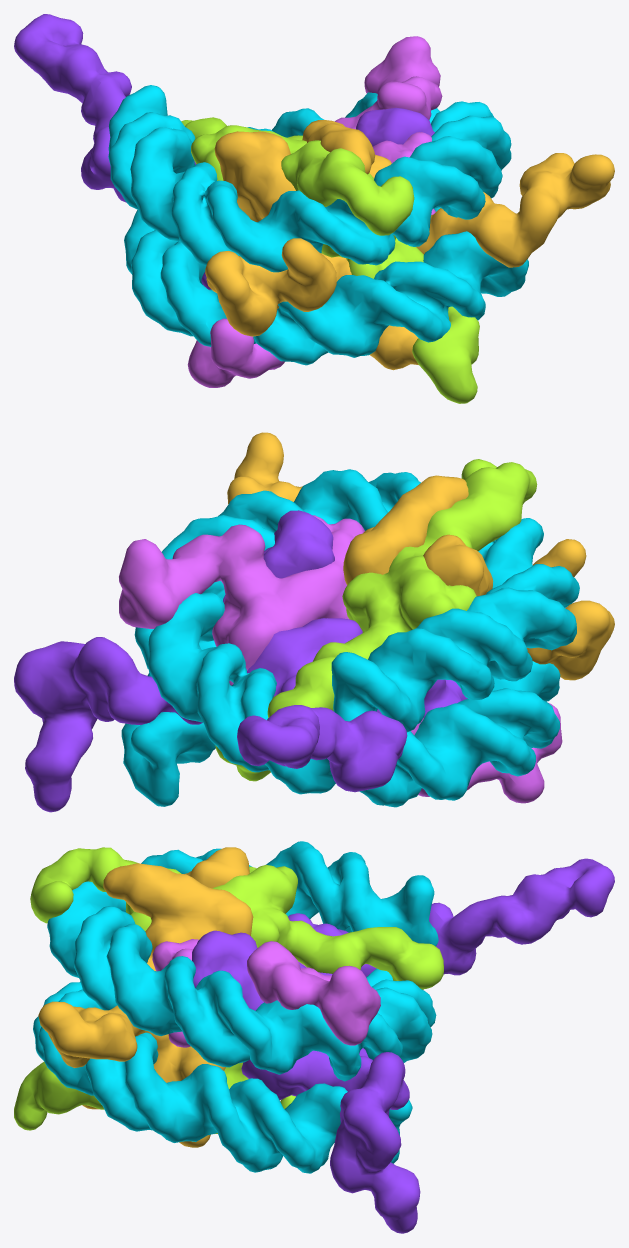
The model's file is nucleosome_pdb.glb.
The picture shows the model from 3 angles, top to bottom: view 1: azimuth 30°, elevation 25°; view 2: azimuth 150°, elevation 25°; view 3: azimuth 270°, elevation 25°; orthographic projection. The views are drawn at different scales.
Parts seen in each view (by area): view 1: nucs_dna, nucs_h2b, nucs_h2a, nucs_h3, nucs_h4; view 2: nucs_dna, nucs_h3, nucs_h4, nucs_h2a, nucs_h2b; view 3: nucs_dna, nucs_h3, nucs_h2a, nucs_h2b, nucs_h4.
Part boxes in pixels (x1,y1,x2,y2): nucs_dna: (108, 85, 528, 365); nucs_h2b: (205, 120, 614, 370); nucs_h2a: (181, 117, 479, 403); nucs_h3: (14, 14, 434, 289); nucs_h4: (187, 36, 442, 387); nucs_dna: (121, 469, 579, 807); nucs_h3: (14, 510, 467, 812); nucs_h4: (119, 515, 562, 803); nucs_h2a: (215, 459, 537, 781); nucs_h2b: (227, 432, 614, 680); nucs_dna: (33, 841, 438, 1173); nucs_h3: (192, 858, 614, 1233); nucs_h2a: (14, 847, 443, 1133); nucs_h2b: (38, 847, 253, 1147); nucs_h4: (152, 939, 380, 1047).
Size of the model in its own units: 2.52 by 1.55 by 3.21.
